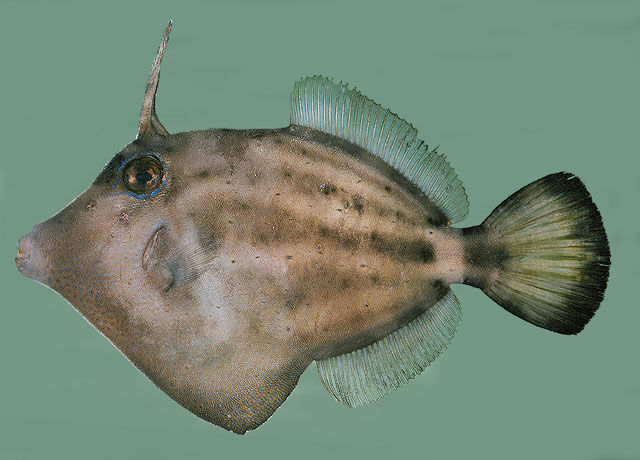fish: (16, 18, 611, 435)
